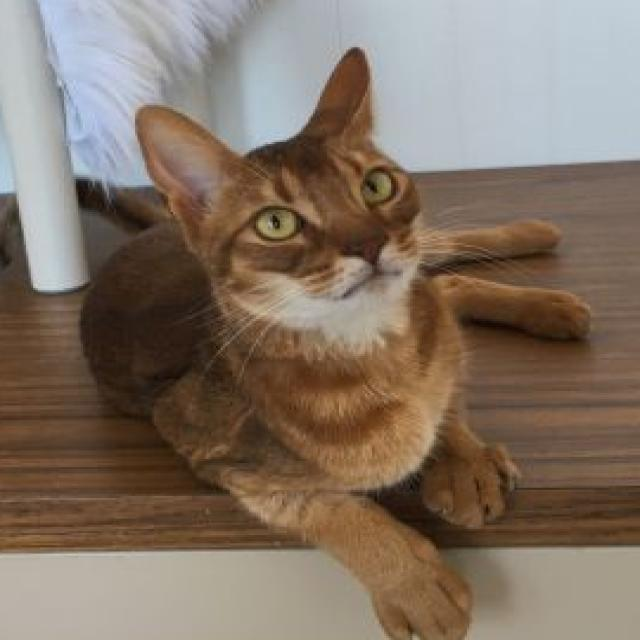Abyssinian: (0, 41, 607, 640)
